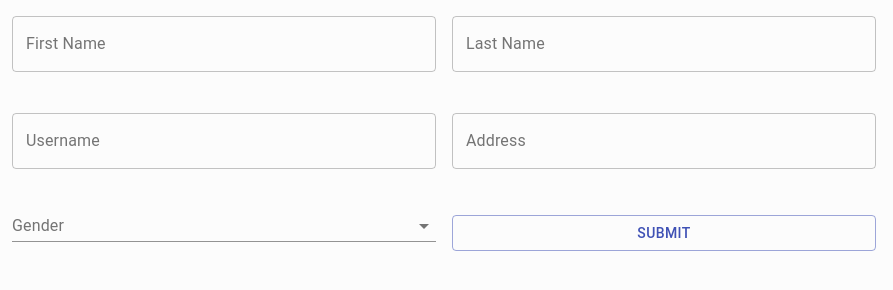
Test case: UserForm › renders the error messaging when submitting empty responses
Click the button "Submit".
click(664, 233)  # box [452,214,876,251]
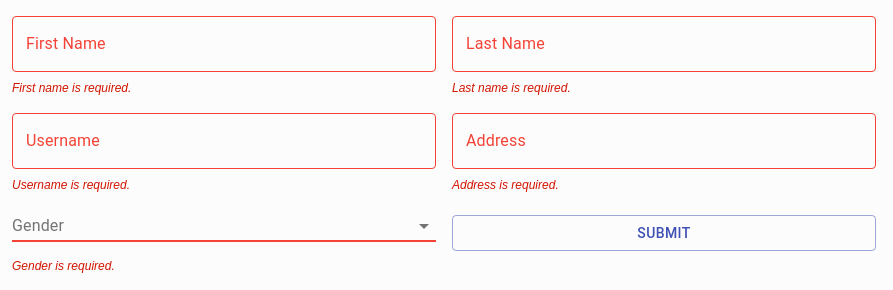
Expected: the text "First name is required." is shown, [12,81,131,95]
Expected: the text "Last name is required." is shown, [452,81,571,95]
Expected: the text "Username is required." is shown, [12,178,130,192]
